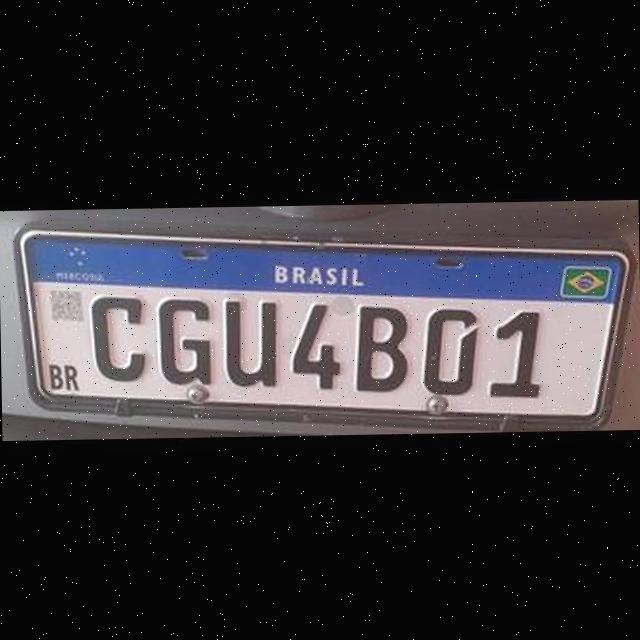Caractere: (220, 296, 282, 390), (154, 294, 215, 387), (88, 292, 150, 383), (420, 304, 480, 396), (351, 303, 410, 393), (286, 300, 342, 392), (487, 305, 542, 398)
Placa: (14, 218, 634, 440)
